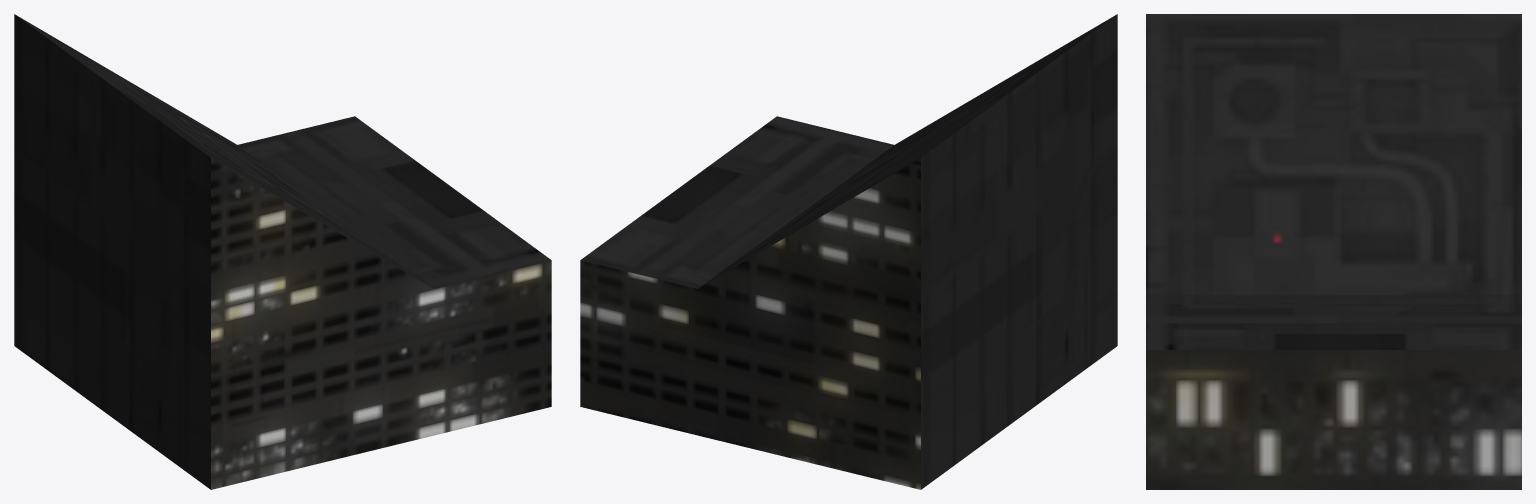
Rendered from scifi_building_31.obj.
The picture shows the model from 3 angles, left to right: view 1: azimuth 30°, elevation 25°; view 2: azimuth 150°, elevation 25°; view 3: azimuth 270°, elevation 25°; orthographic projection. The views are drawn at different scales.
Visible parts, largest first — view 1: building_31; view 2: building_31; view 3: building_31.
Part boxes in pixels (x1,y1,x2,y2): building_31: [14, 14, 551, 489]; building_31: [580, 14, 1117, 489]; building_31: [1146, 14, 1521, 489].
Size of the model in its own units: 90.92 by 84.67 by 90.92.
Materials: 1 (1 with a texture image).
